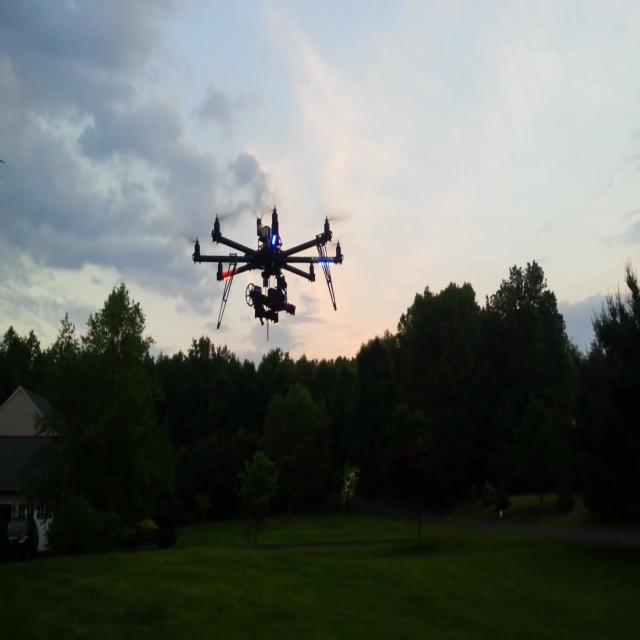drone: (183, 180, 352, 352)
